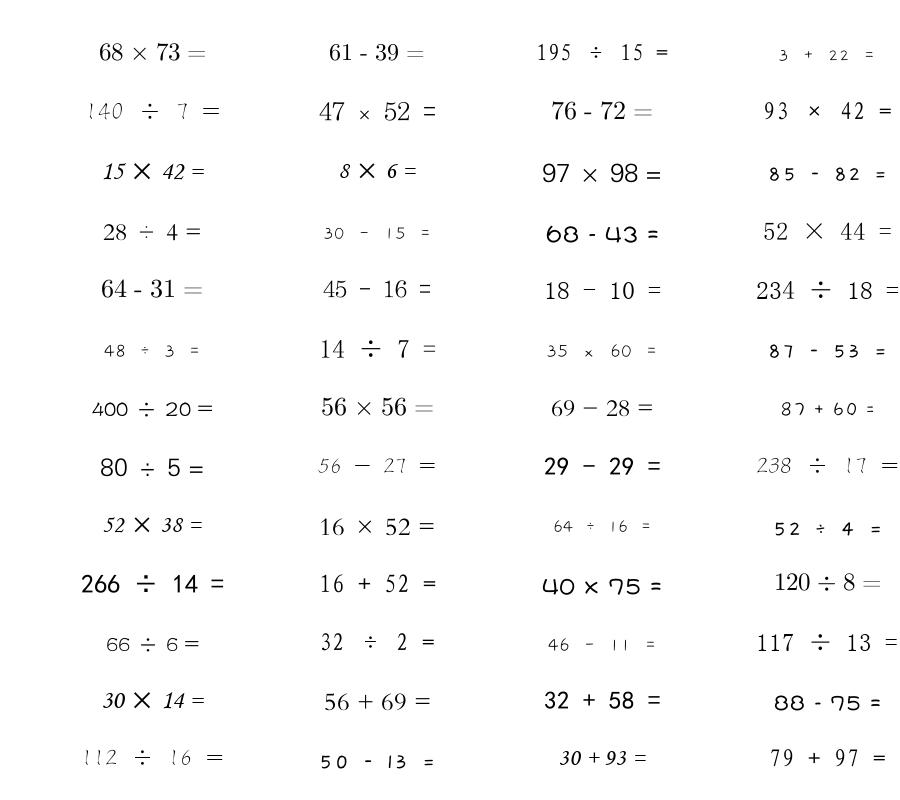MQ: (81, 574, 224, 593), (756, 281, 899, 299), (756, 633, 898, 651), (756, 457, 899, 474), (81, 749, 224, 766), (85, 102, 220, 120), (542, 163, 662, 183), (536, 43, 668, 61), (319, 101, 436, 121), (763, 102, 892, 120), (763, 222, 892, 240), (319, 339, 436, 358), (319, 574, 436, 593), (321, 397, 434, 416), (544, 457, 661, 475), (544, 691, 661, 709), (769, 749, 886, 767), (319, 518, 435, 536), (319, 633, 435, 651), (542, 578, 662, 595), (546, 225, 659, 243), (544, 282, 661, 299), (100, 458, 204, 477), (323, 280, 431, 298), (551, 101, 653, 120), (101, 279, 203, 298), (99, 43, 206, 61), (774, 573, 881, 591), (324, 693, 431, 711), (318, 458, 436, 474), (92, 402, 213, 417), (101, 163, 204, 180), (551, 400, 654, 417), (101, 692, 204, 709), (329, 43, 425, 61), (774, 695, 881, 711), (103, 224, 202, 241), (767, 167, 887, 181), (767, 344, 887, 358), (318, 755, 436, 769), (102, 517, 202, 533), (546, 344, 658, 358), (772, 522, 883, 536), (548, 638, 657, 652), (780, 402, 875, 417), (323, 227, 432, 240), (106, 637, 199, 652), (104, 344, 201, 358), (553, 520, 652, 533), (338, 163, 416, 179), (558, 751, 646, 765), (778, 50, 876, 62)
